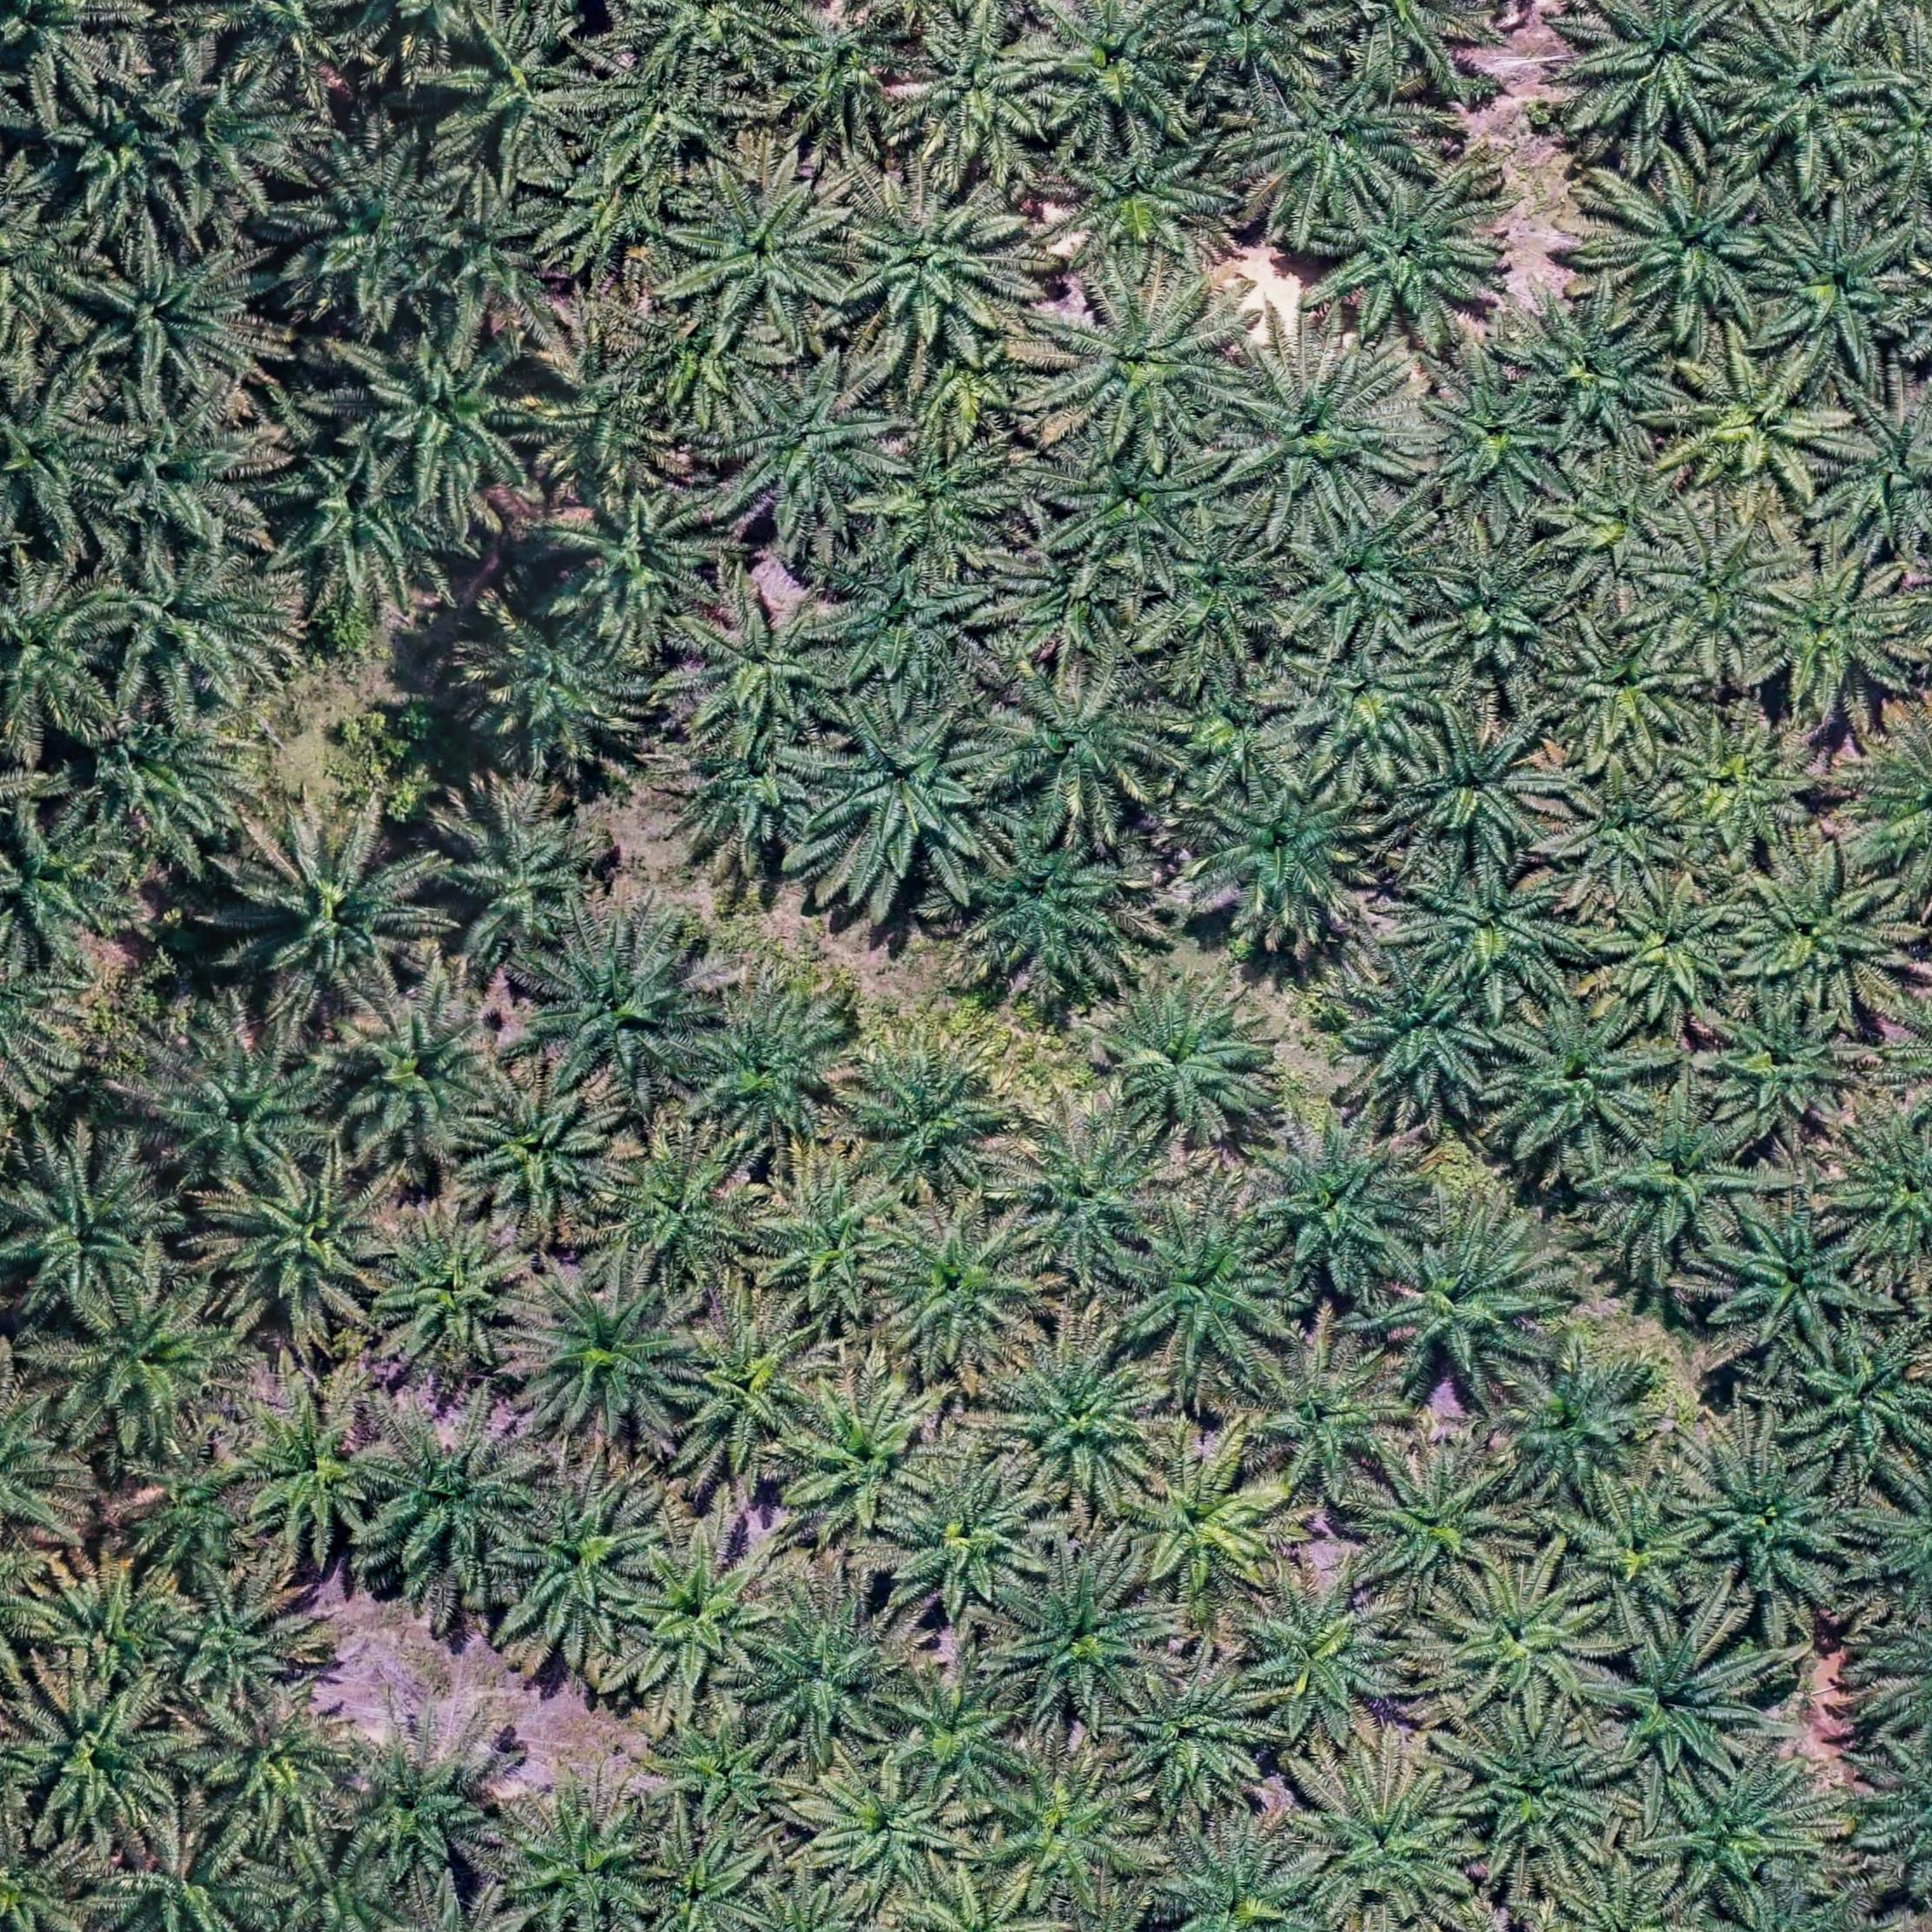palmtree: (209, 792, 447, 1015), (330, 318, 548, 515), (798, 689, 1001, 888), (260, 423, 471, 610), (203, 1151, 405, 1342), (833, 164, 1034, 355), (321, 975, 518, 1169), (520, 913, 720, 1103), (0, 1659, 198, 1849), (68, 231, 279, 408), (419, 778, 613, 970), (96, 533, 294, 720), (40, 1275, 244, 1454), (138, 1014, 341, 1191), (1182, 762, 1379, 943), (510, 1266, 706, 1445), (275, 129, 464, 314), (1043, 425, 1239, 599), (1375, 1213, 1561, 1394), (357, 1401, 543, 1582), (6, 1137, 188, 1322), (33, 54, 217, 235), (1221, 346, 1412, 521), (461, 597, 653, 770), (975, 520, 1166, 694), (983, 1325, 1166, 1505), (1678, 1431, 1862, 1611), (1043, 277, 1240, 444), (491, 1475, 667, 1661), (360, 1199, 542, 1374), (1595, 158, 1779, 329), (1230, 1561, 1412, 1732), (840, 1025, 1021, 1197), (1724, 851, 1907, 1020), (1252, 1113, 1431, 1285), (183, 1687, 368, 1853), (965, 809, 1138, 986), (332, 1720, 512, 1889), (1318, 169, 1503, 334), (1592, 1616, 1768, 1788), (995, 1543, 1168, 1717), (817, 541, 994, 710), (1096, 977, 1278, 1141), (1270, 630, 1454, 792), (227, 1384, 404, 1553), (587, 1125, 768, 1289), (1296, 1757, 1476, 1921), (673, 164, 852, 328), (722, 359, 898, 524), (74, 699, 247, 867), (1118, 1208, 1291, 1375), (666, 1298, 831, 1474), (1390, 854, 1579, 1007), (546, 478, 727, 637), (620, 1531, 791, 1699), (775, 1377, 947, 1544), (1594, 1090, 1764, 1258), (1043, 0, 1204, 176), (1751, 211, 1918, 381), (432, 9, 605, 173), (452, 1072, 627, 1234), (1434, 1555, 1610, 1717), (1049, 125, 1234, 278), (873, 1203, 1047, 1364), (1247, 65, 1429, 220), (1665, 346, 1844, 502), (1490, 994, 1660, 1159), (1119, 1435, 1289, 1599), (494, 1779, 676, 1932), (678, 991, 855, 1147), (984, 663, 1168, 814), (1536, 427, 1688, 609), (520, 327, 682, 498), (742, 1592, 911, 1755), (889, 9, 1062, 167), (1002, 1116, 1170, 1278), (883, 1454, 1052, 1614), (675, 584, 847, 741), (751, 1163, 912, 1330), (1443, 1712, 1616, 1868), (1588, 873, 1755, 1030), (1335, 956, 1502, 1113), (1708, 1201, 1876, 1355), (1751, 556, 1913, 715), (1351, 1445, 1520, 1597), (1392, 718, 1560, 870), (1498, 1350, 1665, 1503), (0, 791, 135, 979), (1254, 1337, 1411, 1498), (0, 563, 130, 756), (1514, 290, 1676, 445), (1284, 494, 1447, 647), (659, 718, 830, 863), (986, 1754, 1154, 1902), (794, 1758, 965, 1902), (1111, 1661, 1273, 1810), (0, 362, 123, 557), (104, 400, 269, 545), (1576, 0, 1748, 139), (159, 1563, 320, 1711), (1660, 719, 1822, 867), (632, 1703, 801, 1843), (1700, 993, 1863, 1139), (1726, 16, 1880, 167), (867, 433, 1024, 580), (118, 1437, 273, 1585), (1543, 613, 1701, 755), (423, 178, 573, 327), (1416, 366, 1566, 513), (767, 7, 905, 165), (1652, 1762, 1811, 1898), (1644, 518, 1793, 662), (1559, 1487, 1709, 1630), (1420, 541, 1567, 683), (1790, 1328, 1932, 1469), (883, 1665, 1028, 1803), (524, 148, 662, 294), (1544, 768, 1689, 903), (575, 68, 742, 185), (1830, 1102, 1932, 1282), (1149, 524, 1286, 656), (1821, 391, 1932, 551), (1314, 0, 1503, 91), (1157, 1829, 1318, 1932), (636, 1830, 779, 1932)
